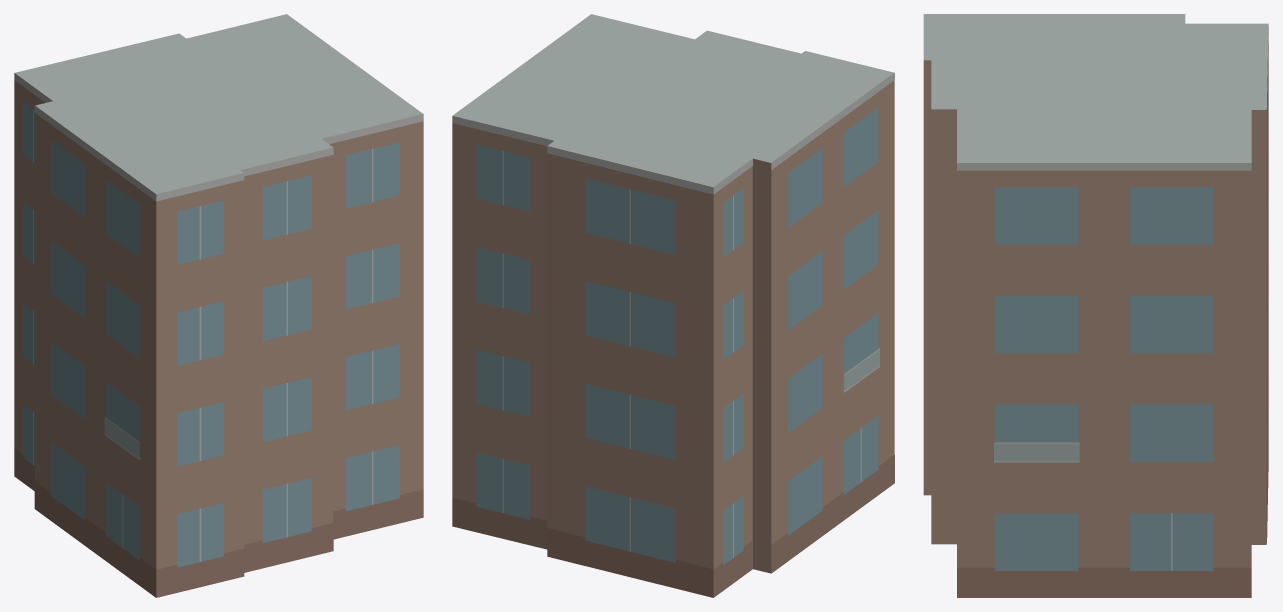
File: survey-upis-32476809.glb
3 views of the same model, side by side, from view 1: azimuth 30°, elevation 25°; view 2: azimuth 150°, elevation 25°; view 3: azimuth 270°, elevation 25° (orthographic). The views are drawn at different scales.
Parts seen in each view (by area): view 1: survey-upis-32476809.tmp; view 2: survey-upis-32476809.tmp; view 3: survey-upis-32476809.tmp.
Boxes of the visible parts, x1=… form: survey-upis-32476809.tmp: x1=14, y1=14, x2=423, y2=597; survey-upis-32476809.tmp: x1=452, y1=14, x2=894, y2=597; survey-upis-32476809.tmp: x1=923, y1=14, x2=1268, y2=597.
Bounding box in the file's own units: 10.12 × 13.7 × 9.86.
